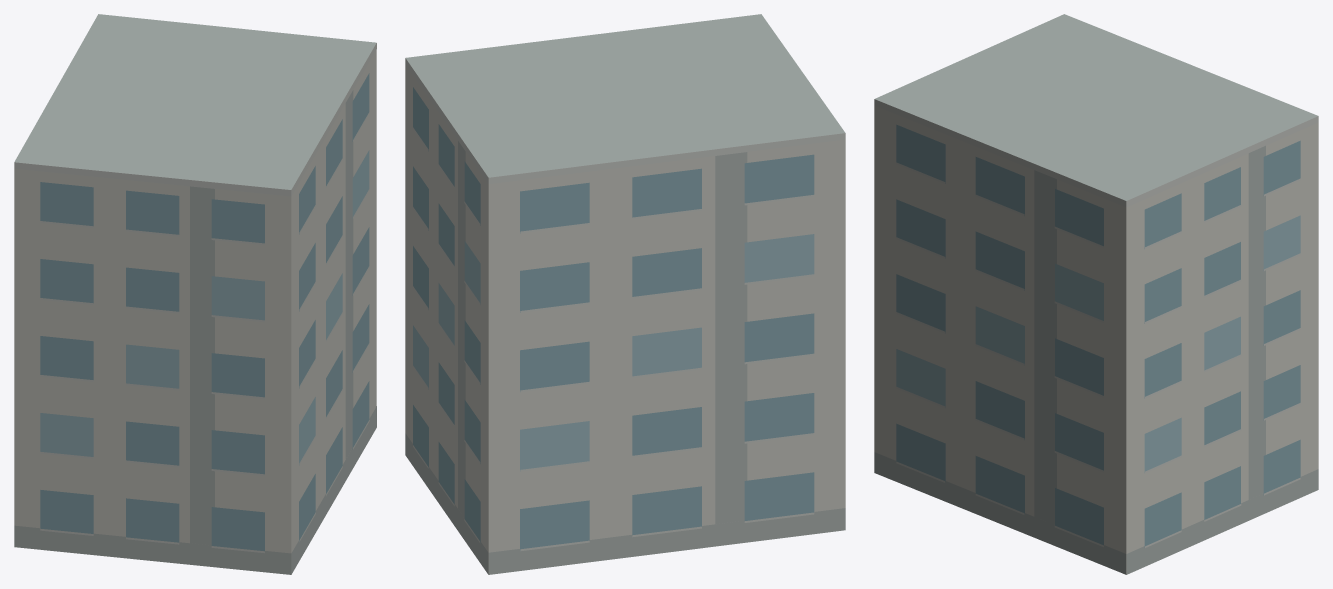
The model's file is survey-upis-33023562.glb.
3 views of the same model, side by side, from view 1: azimuth 30°, elevation 25°; view 2: azimuth 150°, elevation 25°; view 3: azimuth 270°, elevation 25° (orthographic). The views are drawn at different scales.
Parts seen in each view (by area): view 1: survey-upis-33023562.tmp; view 2: survey-upis-33023562.tmp; view 3: survey-upis-33023562.tmp.
Boxes of the visible parts, x1,y1,x2,y2 form: survey-upis-33023562.tmp: [14, 14, 376, 574]; survey-upis-33023562.tmp: [405, 14, 845, 574]; survey-upis-33023562.tmp: [874, 14, 1318, 574].
Size of the model in its own units: 15.57 by 14.5 by 15.63.
